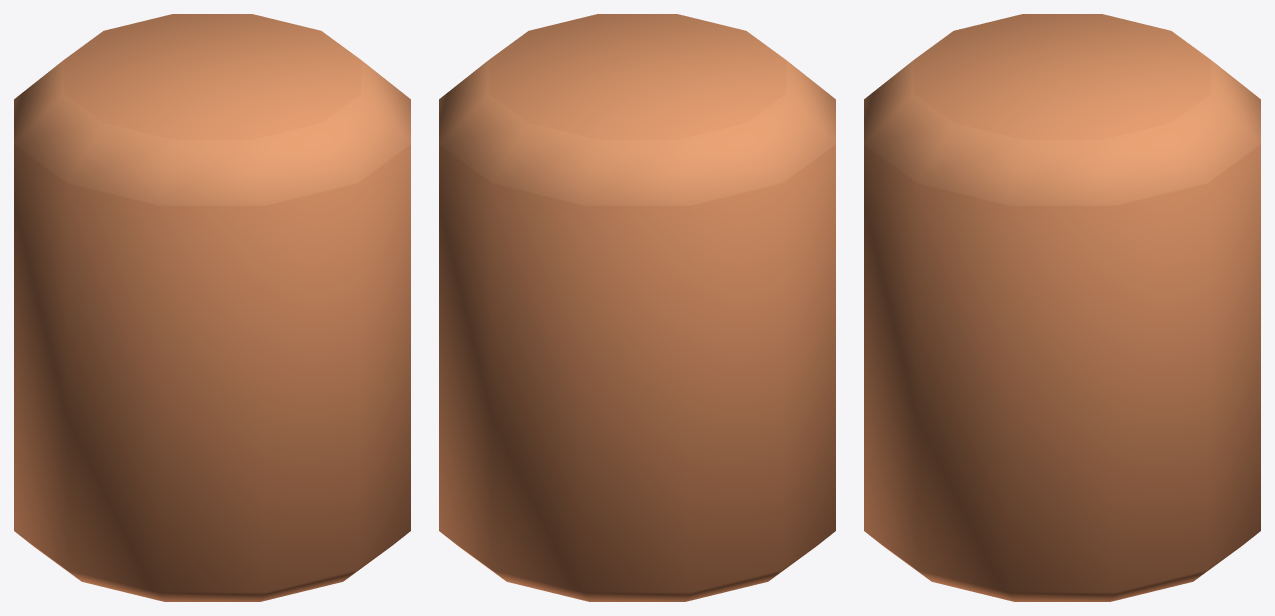
Rendered from stepping_stumps_B_large.glb.
3 renders of one model, left to right at view 1: azimuth 30°, elevation 25°; view 2: azimuth 150°, elevation 25°; view 3: azimuth 270°, elevation 25°, orthographic.
Visible parts, largest first — view 1: stepping_stumps_B_large; view 2: stepping_stumps_B_large; view 3: stepping_stumps_B_large.
Boxes of the visible parts, x1,y1,x2,y2 form: stepping_stumps_B_large: [14, 14, 410, 601]; stepping_stumps_B_large: [439, 14, 835, 601]; stepping_stumps_B_large: [864, 14, 1260, 601].
Size of the model in its own units: 0.4 by 0.5 by 0.4.
1 material, 1 textured.
